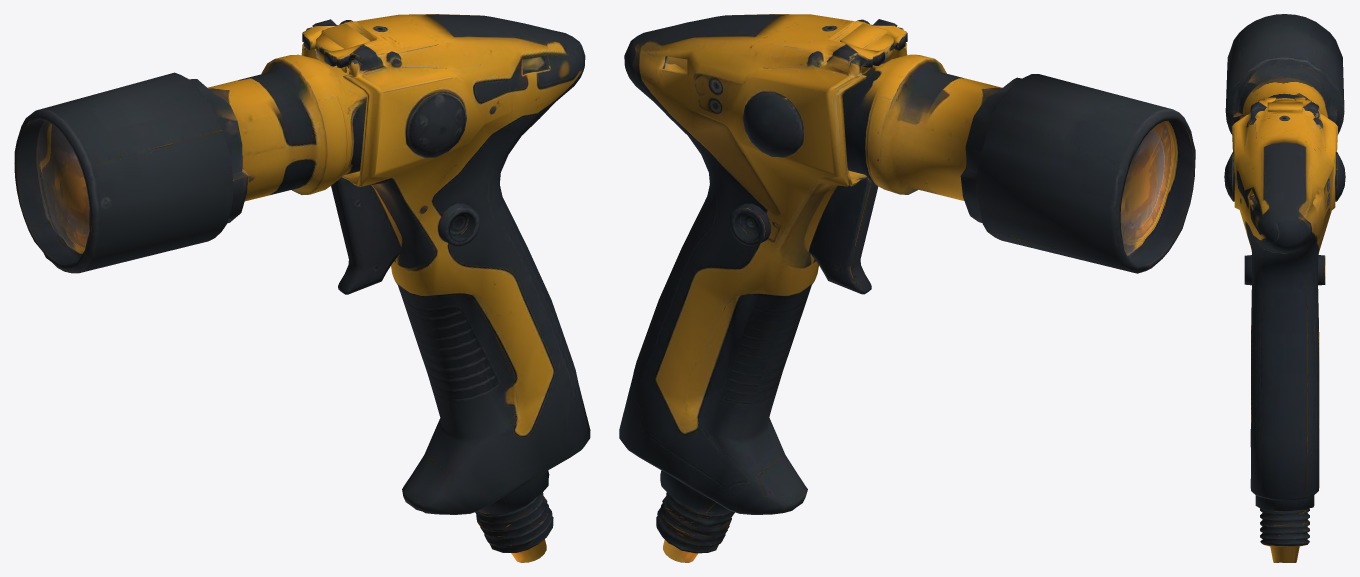
File: w_plasma.glb
The picture shows the model from 3 angles, left to right: view 1: azimuth 30°, elevation 25°; view 2: azimuth 150°, elevation 25°; view 3: azimuth 270°, elevation 25°; orthographic projection. The views are drawn at different scales.
Size of the model in its own units: 0.9284 by 0.9502 by 0.2622.
1 material, 1 textured.
